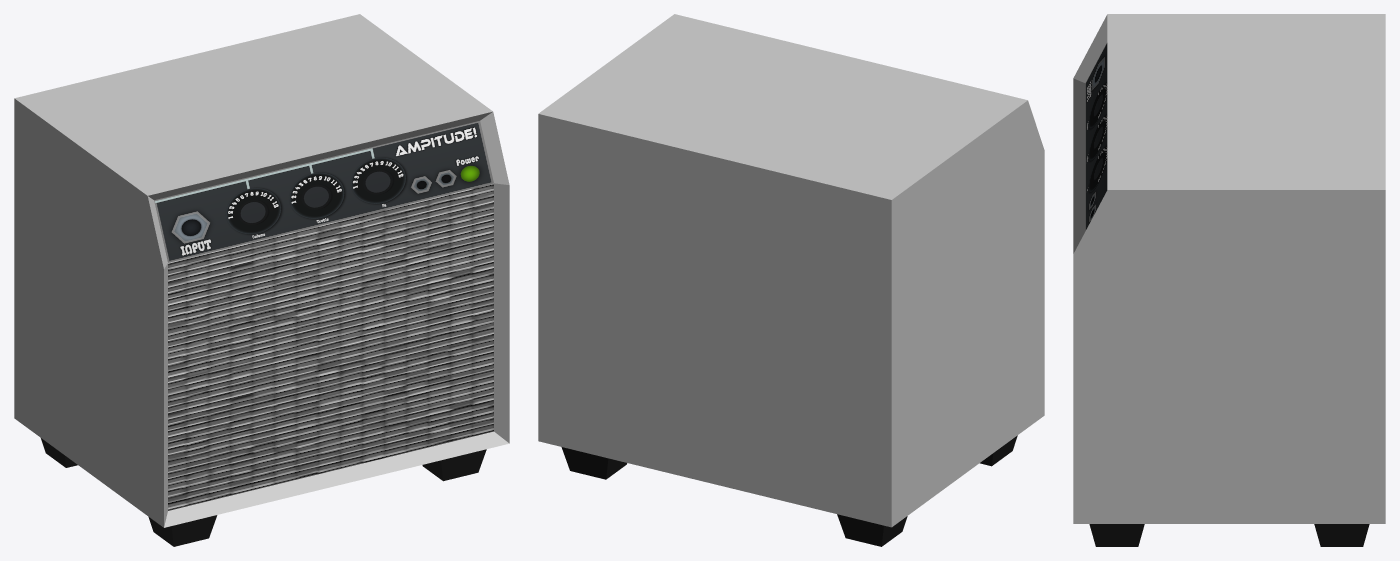
Rendered from Amp_B.FBX.
3 views of the same model, side by side, from view 1: azimuth 30°, elevation 25°; view 2: azimuth 150°, elevation 25°; view 3: azimuth 270°, elevation 25° (orthographic). The views are drawn at different scales.
Parts seen in each view (by area): view 1: Amp; view 2: Amp; view 3: Amp.
Part boxes in pixels (bbox=[...]): Amp: bbox=[14, 14, 509, 546]; Amp: bbox=[538, 14, 1044, 546]; Amp: bbox=[1073, 14, 1385, 546].
Size of the model in its own units: 55.04 by 53.57 by 41.28.
